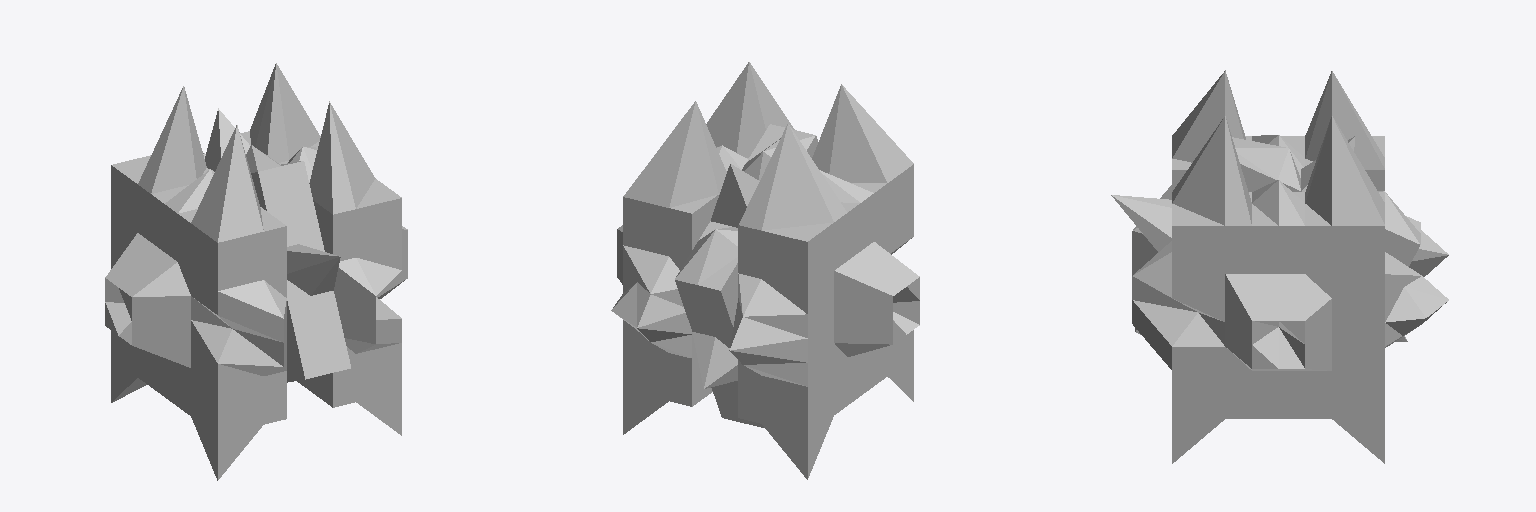
Rendered from cubex.obj.
3 views of the same model, side by side, from view 1: azimuth 30°, elevation 25°; view 2: azimuth 150°, elevation 25°; view 3: azimuth 270°, elevation 25° (orthographic).
Visible parts, largest first — view 1: Cube_Cube.005; view 2: Cube_Cube.005; view 3: Cube_Cube.005.
Part boxes in pixels (bbox=[...]): Cube_Cube.005: bbox=[105, 63, 407, 480]; Cube_Cube.005: bbox=[611, 62, 919, 479]; Cube_Cube.005: bbox=[1111, 70, 1448, 463].
Size of the model in its own units: 2.99 by 3.38 by 3.18.